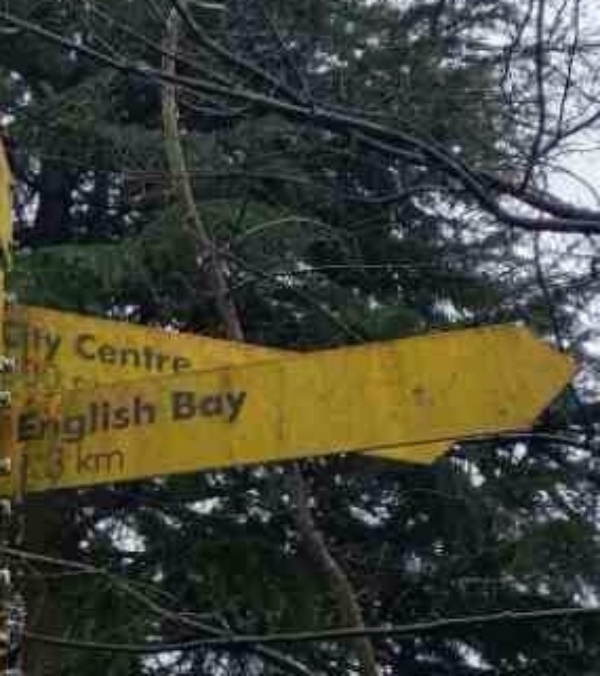text: (17, 388, 32, 453), (33, 388, 48, 453), (49, 388, 64, 453), (65, 388, 80, 453), (81, 388, 96, 453), (97, 388, 112, 453), (113, 388, 128, 453), (129, 388, 144, 453), (145, 388, 158, 453), (81, 327, 96, 380), (97, 327, 112, 380), (113, 327, 128, 380), (129, 327, 144, 380), (145, 327, 160, 380), (161, 327, 176, 380), (177, 327, 192, 380), (17, 314, 32, 365), (33, 314, 48, 365), (49, 314, 64, 365), (3, 314, 16, 365), (49, 443, 64, 483), (177, 388, 192, 426), (193, 388, 208, 426), (209, 388, 224, 426), (225, 388, 240, 426), (81, 441, 96, 479), (97, 441, 112, 479), (113, 441, 127, 479), (241, 388, 251, 426), (74, 327, 80, 380), (41, 443, 48, 483), (169, 388, 176, 426), (74, 441, 80, 479), (13, 388, 16, 453), (65, 314, 68, 365), (65, 443, 68, 483), (193, 327, 194, 380)
